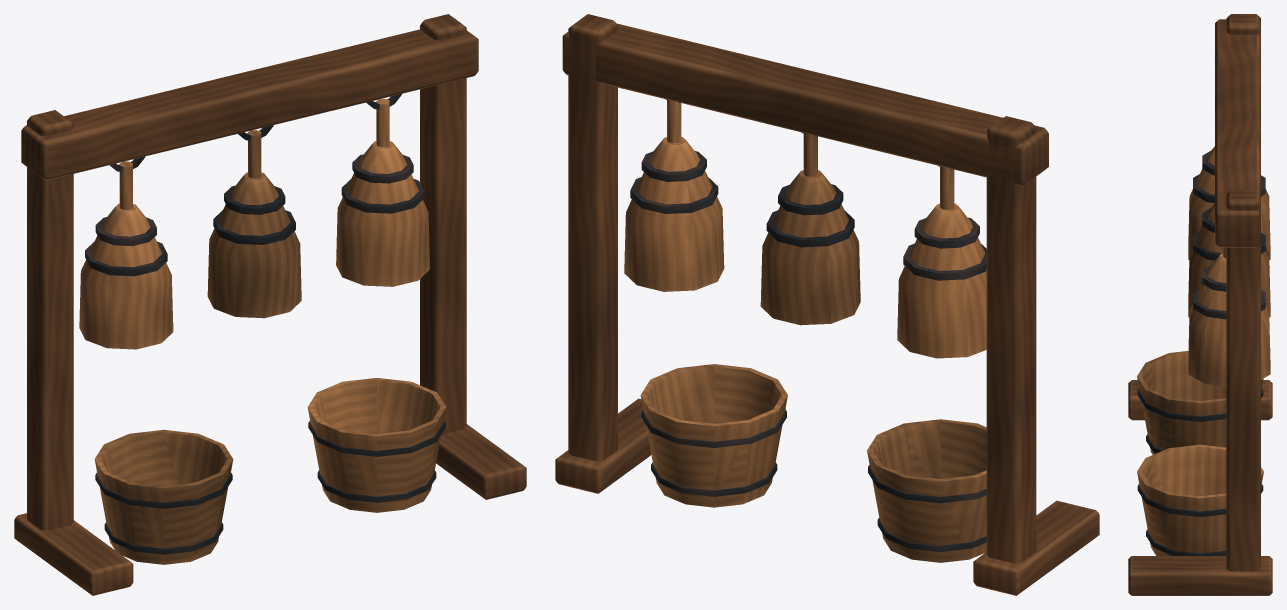
The model's file is Furn_Broom_DryingRack.fbx.
The picture shows the model from 3 angles, left to right: view 1: azimuth 30°, elevation 25°; view 2: azimuth 150°, elevation 25°; view 3: azimuth 270°, elevation 25°; orthographic projection. The views are drawn at different scales.
Parts seen in each view (by area): view 1: Furn_Broom_DryingRack; view 2: Furn_Broom_DryingRack; view 3: Furn_Broom_DryingRack.
Part boxes in pixels (bbox=[...]): Furn_Broom_DryingRack: bbox=[14, 14, 526, 595]; Furn_Broom_DryingRack: bbox=[555, 14, 1099, 595]; Furn_Broom_DryingRack: bbox=[1128, 14, 1272, 595].
Bounding box in the file's own units: 1.6 × 1.5 × 0.5.
3 materials, 3 textured.
